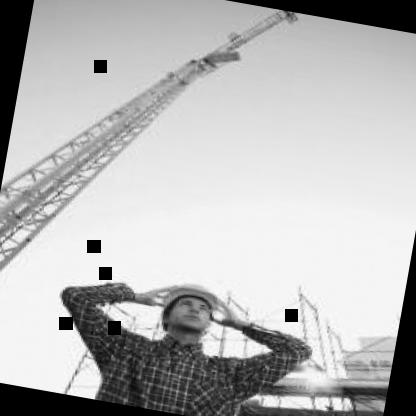helmet: (138, 268, 240, 352)
